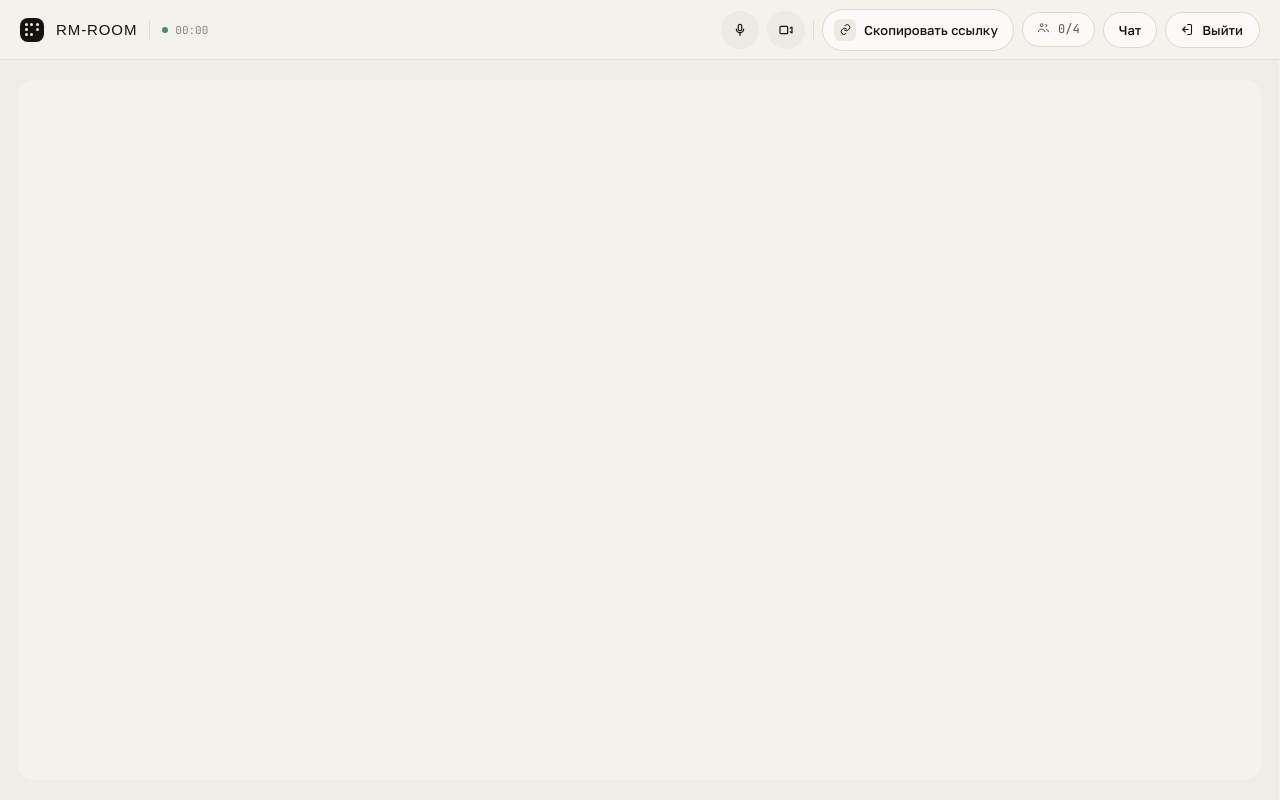
Test: RoomScreen (Design §4.2/§5.3/§7.1, критерий приёмки задачи 24) › Задача 38 — гейт «Выйти» (критерий приёмки: клик больше НЕ эмитит leave напрямую) › клик «Выйти» в шапке открывает гейт подтверждения и НЕ эмитит leave
Click the button with test id "leave-button" at (1213, 30), box left=1165, top=12, right=1260, bottom=48
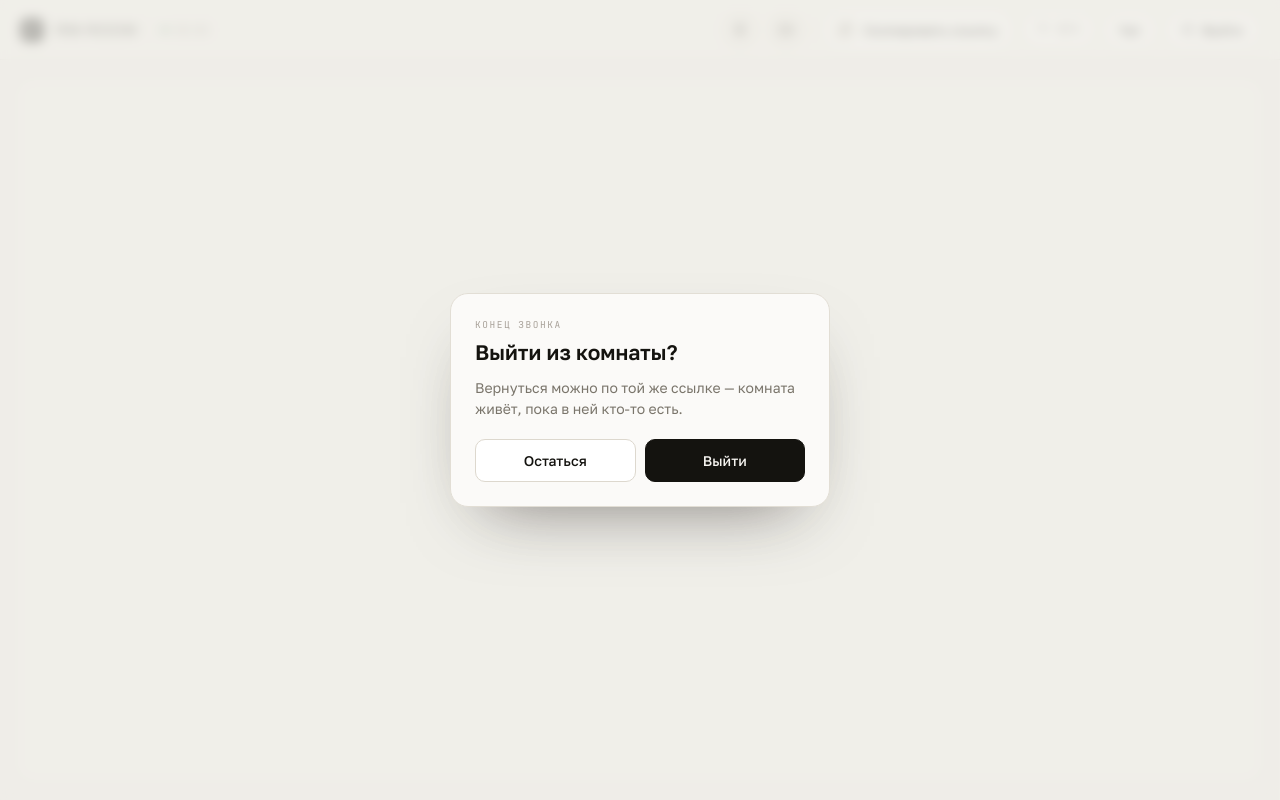
Now the dialog with test id "exit-confirm" is shown
